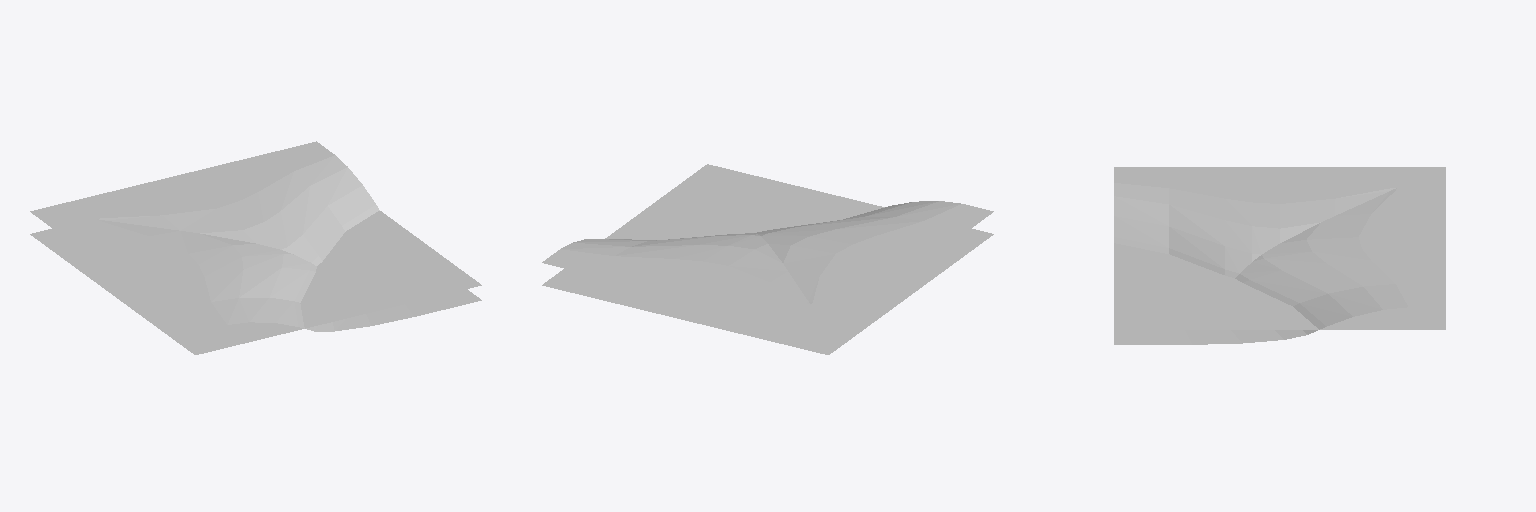
The model's file is Water-InsideCorner.obj.
The picture shows the model from 3 angles: view 1: azimuth 30°, elevation 25°; view 2: azimuth 150°, elevation 25°; view 3: azimuth 270°, elevation 25°; orthographic projection.
Parts seen in each view (by area): view 1: Water-InsideCorner_Plane.007; view 2: Water-InsideCorner_Plane.007; view 3: Water-InsideCorner_Plane.007.
Boxes of the visible parts, x1=… form: Water-InsideCorner_Plane.007: x1=30, y1=141, x2=481, y2=354; Water-InsideCorner_Plane.007: x1=542, y1=164, x2=993, y2=354; Water-InsideCorner_Plane.007: x1=1114, y1=167, x2=1445, y2=344.
Size of the model in its own units: 2 by 0.25 by 2.